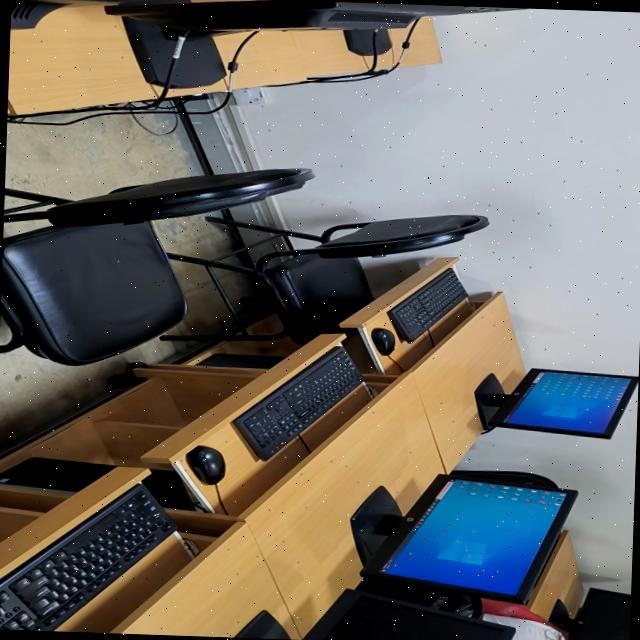Chair: (0, 167, 314, 364), (163, 214, 488, 342), (356, 577, 479, 616), (450, 469, 557, 487)
Cpu: (0, 456, 115, 490), (143, 468, 193, 509), (197, 352, 283, 367)
Keyboard: (0, 482, 175, 631), (233, 345, 363, 459), (388, 267, 468, 341)
Monitor: (351, 473, 577, 602), (302, 588, 513, 640), (105, 0, 439, 29), (504, 369, 632, 432), (550, 587, 631, 640), (10, 0, 148, 28)
Mouse: (186, 444, 225, 483), (371, 326, 395, 354)
